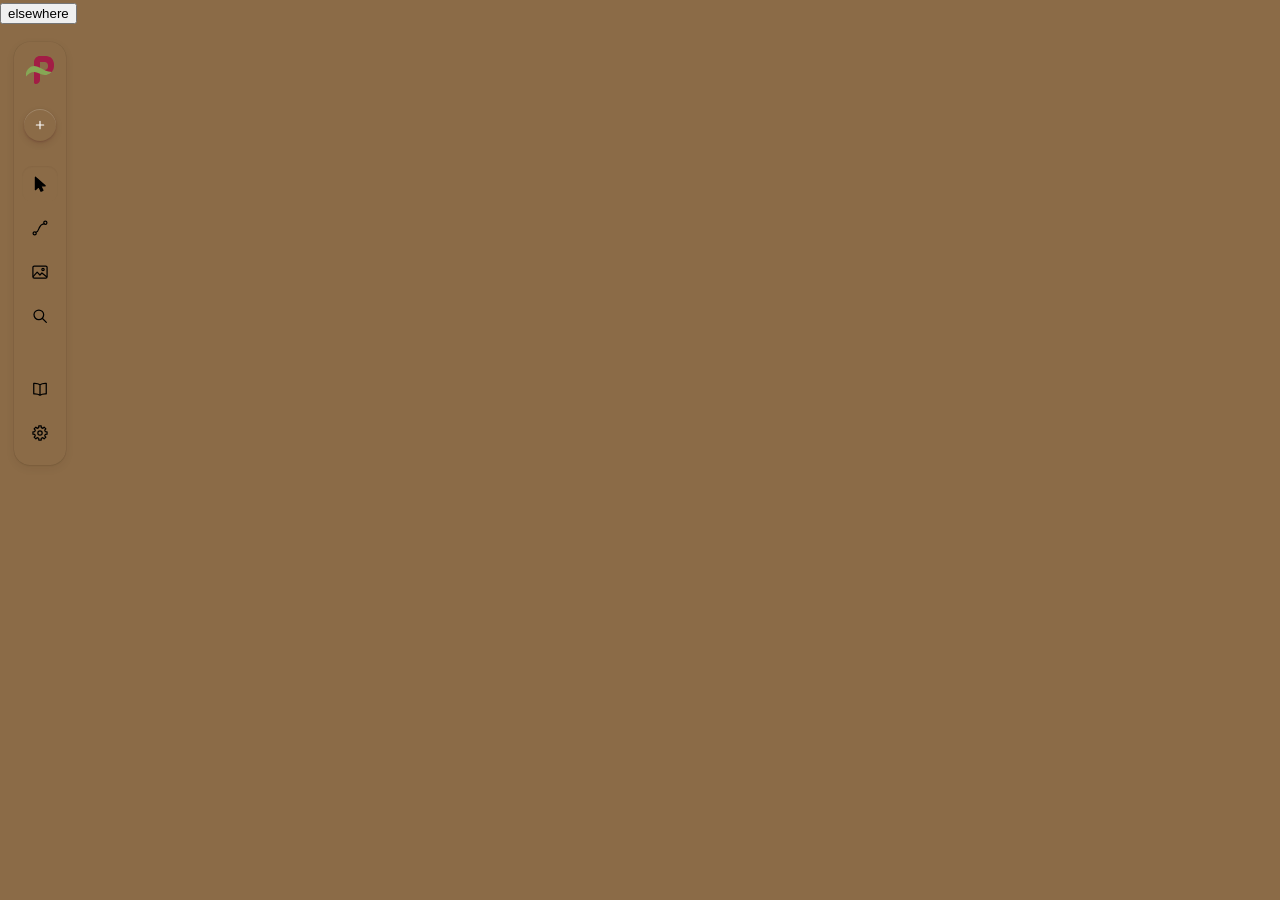
Test: sidebar › the picker closes on a press outside it, on Esc wherever the focus is, and as the focus leaves
The width and height of the screenshot is (1280, 900).
Step 1. Click the button named "New note" → [40, 125], box x1=24 y1=109 x2=56 y2=141
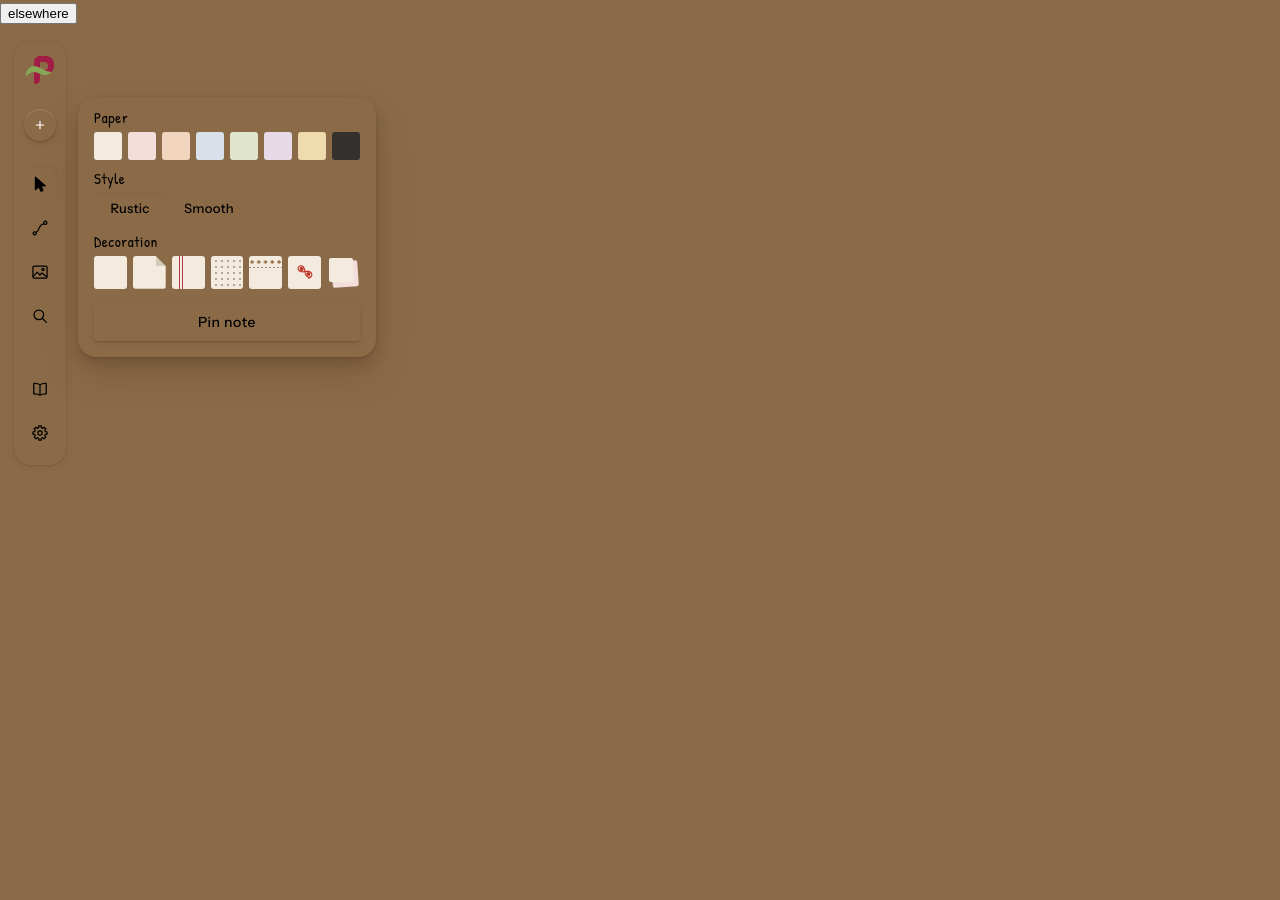
Check: the element named "New note" is shown, box x1=0 y1=3 x2=77 y2=24
Check: the dialog named "New note" is shown, box x1=78 y1=97 x2=376 y2=357
Step 2. Press the mouse on the element showing "elsewhere Paper Style Rustic Smooth Decoration Pin note" → [640, 450], box x1=0 y1=0 x2=1279 y2=899
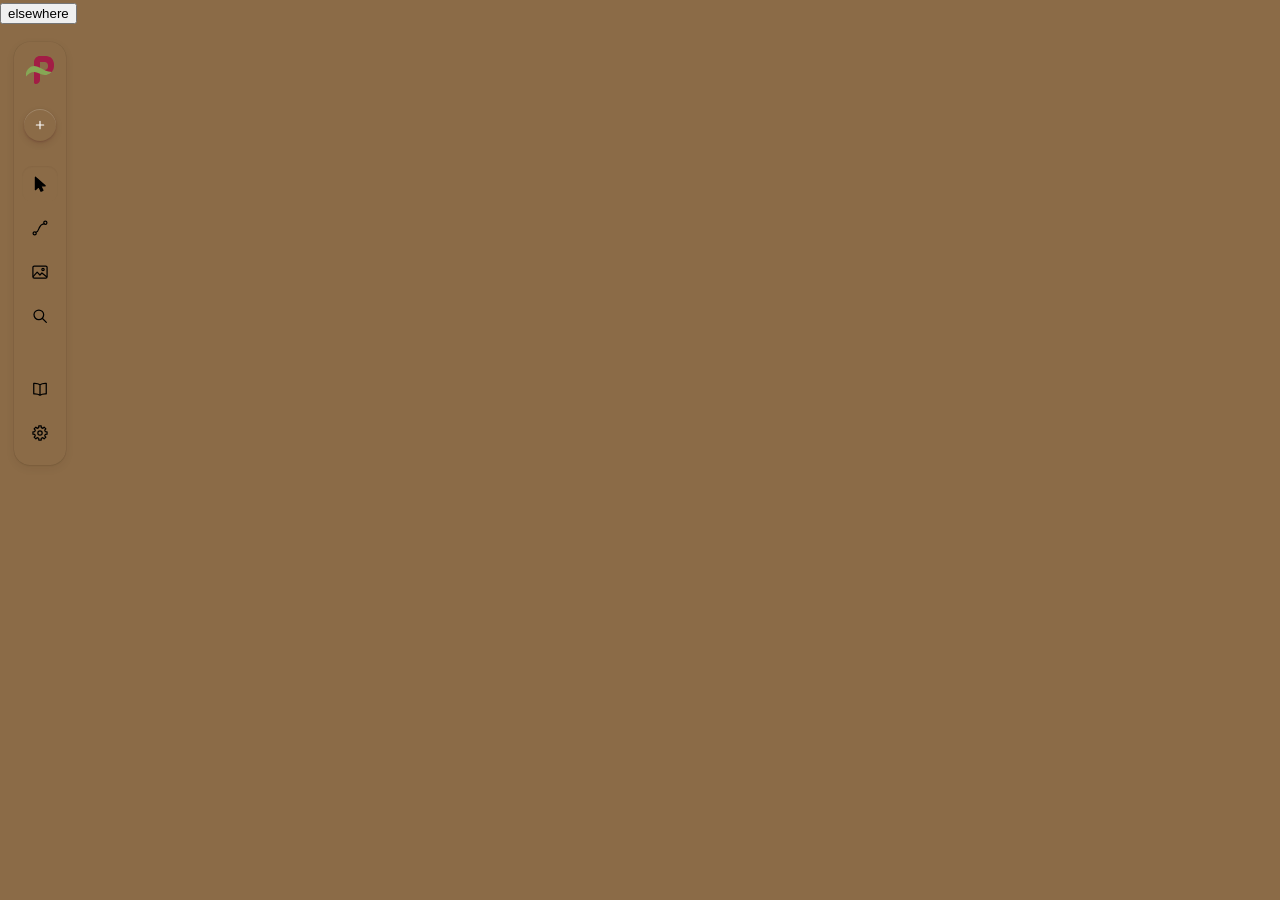
Check: the dialog is gone
Step 3. Click the button named "New note" → [40, 125], box x1=24 y1=109 x2=56 y2=141
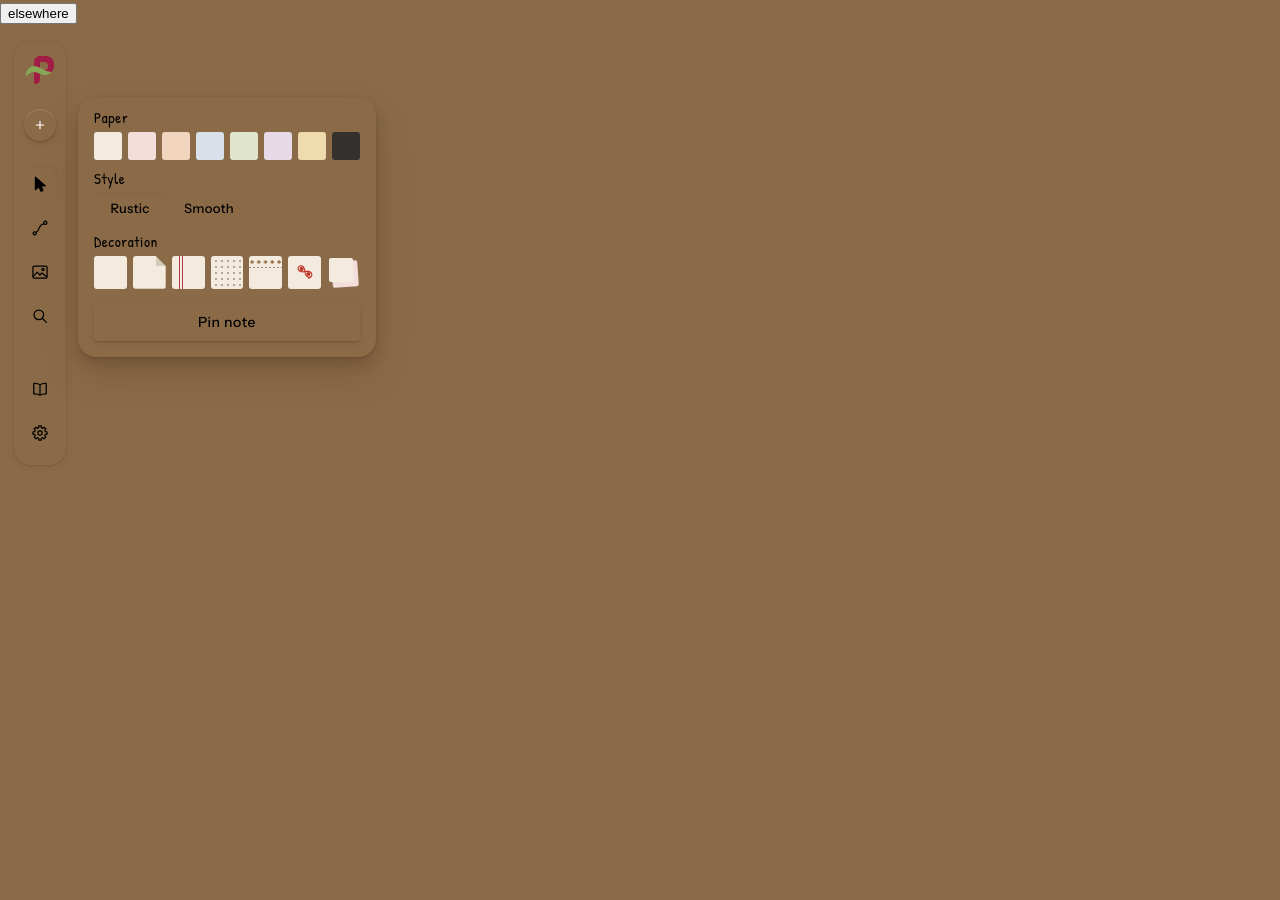
Step 4. Press Escape in the button named "New note", box x1=24 y1=109 x2=56 y2=141
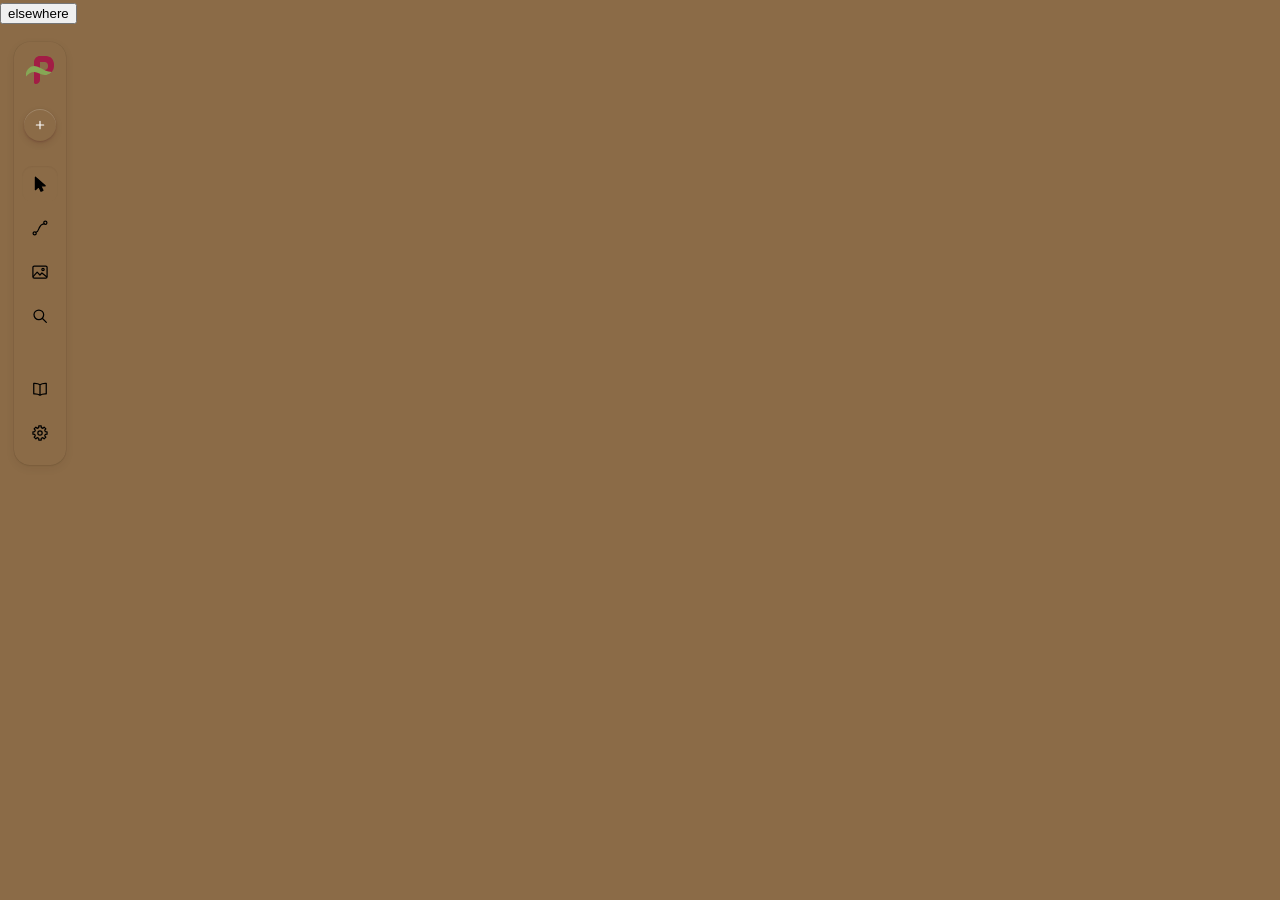
Check: the dialog is gone
Step 5. Click the button named "New note" → [40, 125], box x1=24 y1=109 x2=56 y2=141
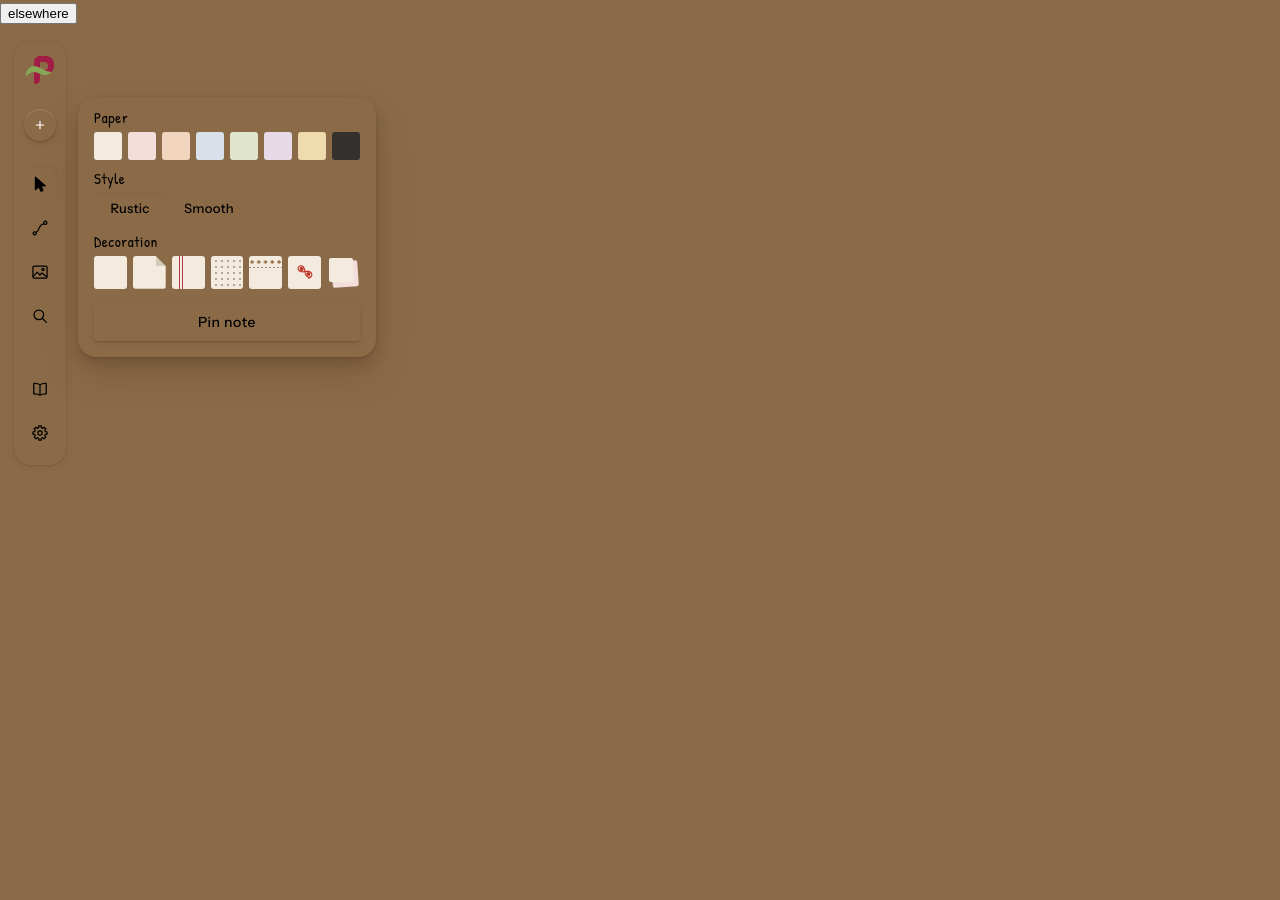
Step 6. Leave the radio button named "Cream", box x1=94 y1=132 x2=122 y2=160
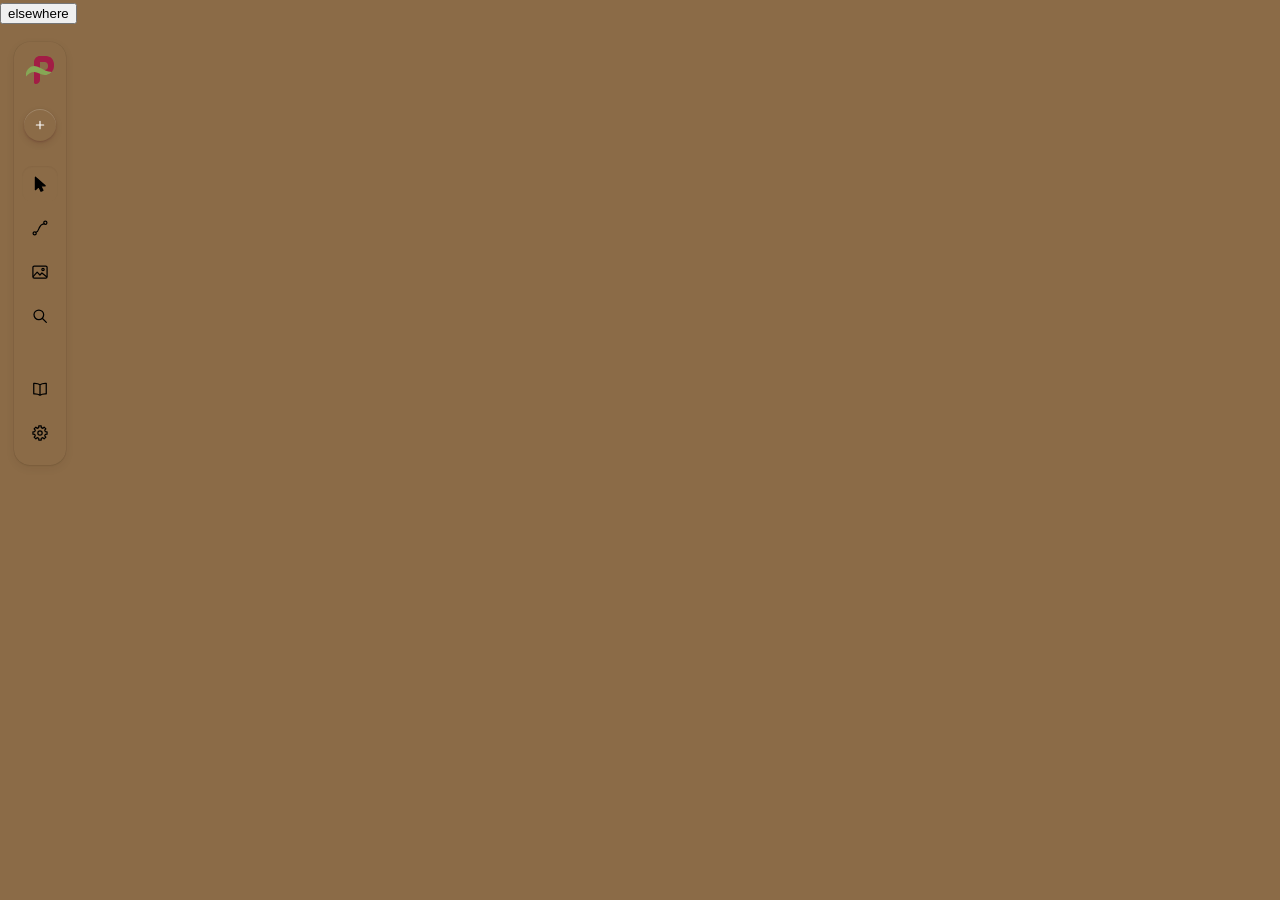
Check: the dialog is gone
